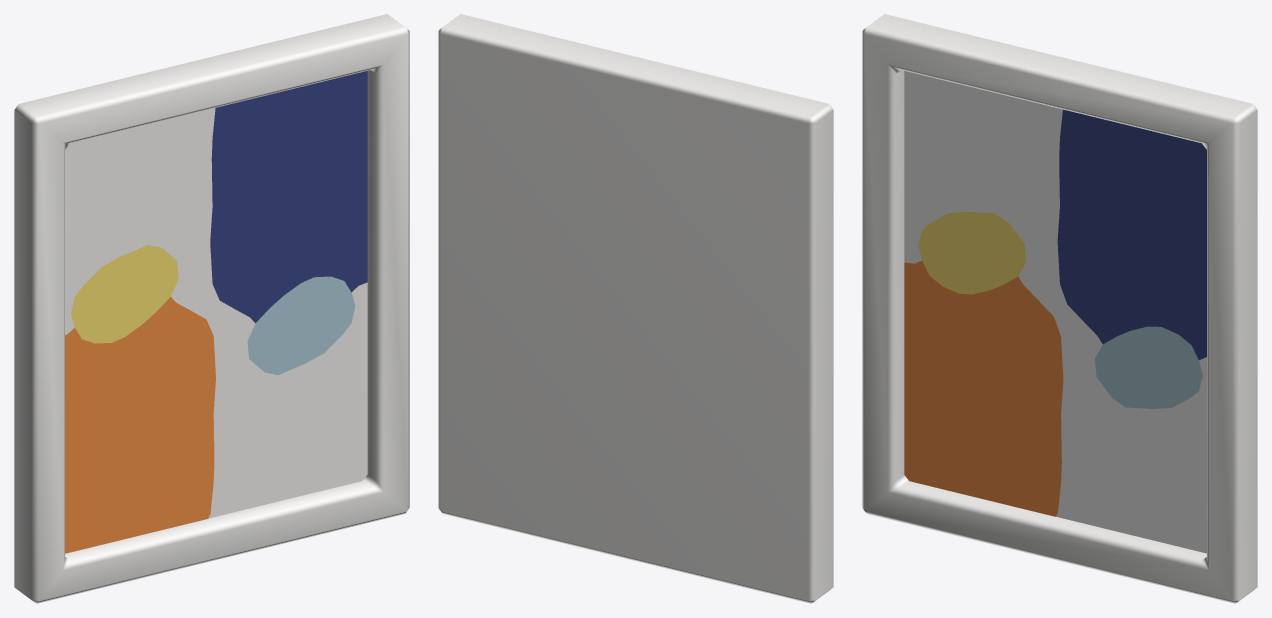
File: Frame_3.glb
3 views of the same model, side by side, from view 1: azimuth 30°, elevation 25°; view 2: azimuth 150°, elevation 25°; view 3: azimuth 330°, elevation 25° (orthographic).
Visible parts, largest first — view 1: Painting_20; view 2: Painting_20; view 3: Painting_20.
Part boxes in pixels (x1=…): Painting_20: x1=14, y1=14, x2=409, y2=603; Painting_20: x1=438, y1=14, x2=833, y2=603; Painting_20: x1=862, y1=14, x2=1257, y2=603.
Bounding box in the file's own units: 0.9813 × 1.21 × 0.1036.
Materials: 1 (1 with a texture image).
